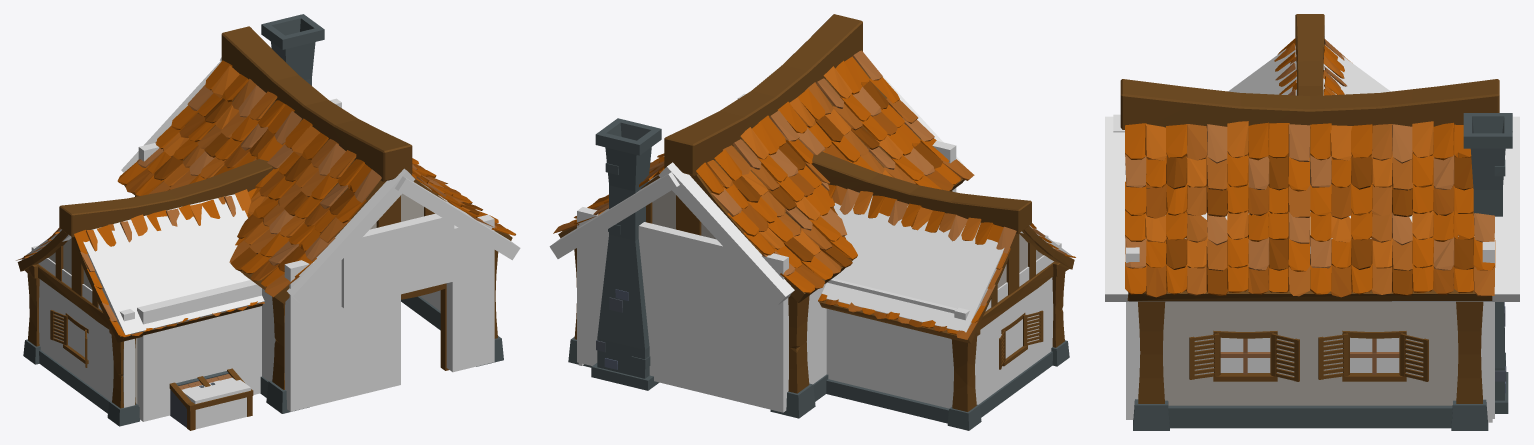
Rendered from house_3.glb.
3 renders of one model, left to right at view 1: azimuth 30°, elevation 25°; view 2: azimuth 150°, elevation 25°; view 3: azimuth 270°, elevation 25°, orthographic. The views are drawn at different scales.
Parts seen in each view (by area): view 1: House_03, Cube.012, Cube.019, Cube.022, Cube.011, Cube.016, Cube.018, Cube.015, Cube.014, Cube.023, Cube.009; view 2: House_03, Cube.013, Cube.020, Cube.021, Cube.018, Cube.015, Cube.014, Cube.017; view 3: House_03, Cube.014, Cube.010, Cube.013, Cube.019, Cube.016, Cube.020.
Boxes of the visible parts, left/top/right/bottom form: House_03: left=16, top=14, right=515, bottom=430; Cube.012: left=284, top=260, right=400, bottom=411; Cube.019: left=83, top=194, right=264, bottom=335; Cube.022: left=137, top=280, right=261, bottom=421; Cube.011: left=341, top=213, right=454, bottom=308; Cube.016: left=446, top=214, right=494, bottom=372; Cube.018: left=31, top=245, right=134, bottom=407; Cube.015: left=121, top=60, right=415, bottom=304; Cube.014: left=220, top=57, right=520, bottom=260; Cube.023: left=182, top=377, right=250, bottom=429; Cube.009: left=262, top=288, right=275, bottom=380; House_03: left=553, top=14, right=1075, bottom=430; Cube.013: left=577, top=207, right=788, bottom=412; Cube.020: left=822, top=195, right=1004, bottom=332; Cube.021: left=826, top=278, right=956, bottom=408; Cube.018: left=954, top=241, right=1061, bottom=404; Cube.015: left=658, top=73, right=964, bottom=305; Cube.014: left=549, top=172, right=679, bottom=258; Cube.017: left=806, top=283, right=826, bottom=384; House_03: left=1120, top=14, right=1512, bottom=430; Cube.014: left=1105, top=116, right=1519, bottom=301; Cube.010: left=1135, top=302, right=1492, bottom=422; Cube.013: left=1482, top=239, right=1494, bottom=418; Cube.019: left=1228, top=45, right=1296, bottom=95; Cube.016: left=1126, top=247, right=1139, bottom=419; Cube.020: left=1323, top=45, right=1390, bottom=95.
Size of the model in its own units: 10.03 by 6.22 by 8.25.
Materials: 1 (1 with a texture image).
